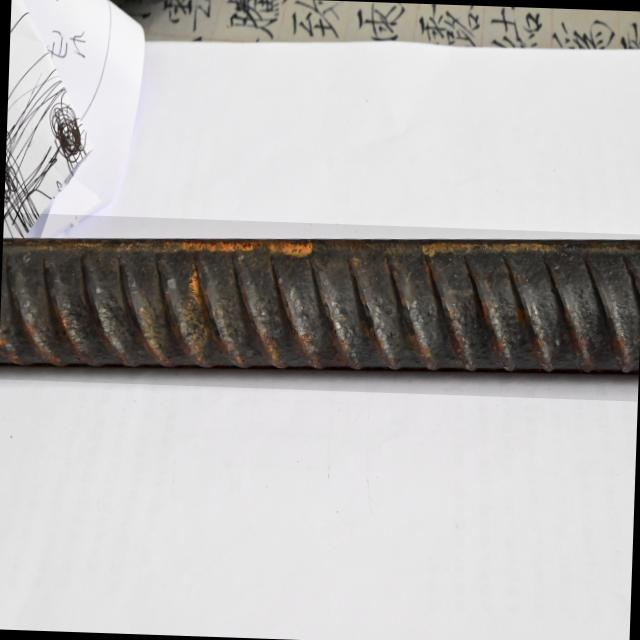ribbed bar: (0, 212, 640, 401)
